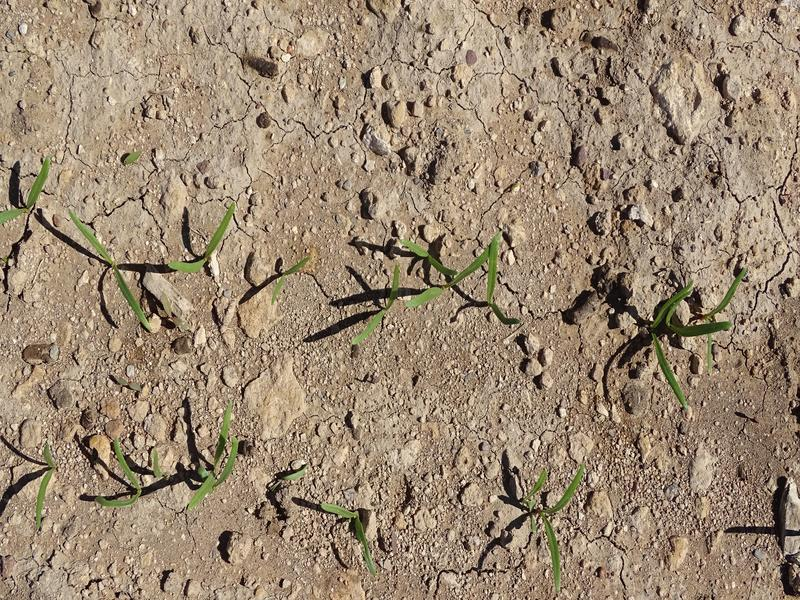Espinaca: (362, 228, 501, 328), (645, 266, 736, 397), (66, 209, 154, 333), (533, 456, 591, 587), (168, 200, 238, 273), (193, 402, 240, 501), (321, 502, 383, 574), (3, 152, 57, 223), (97, 432, 144, 509), (36, 443, 57, 535)
